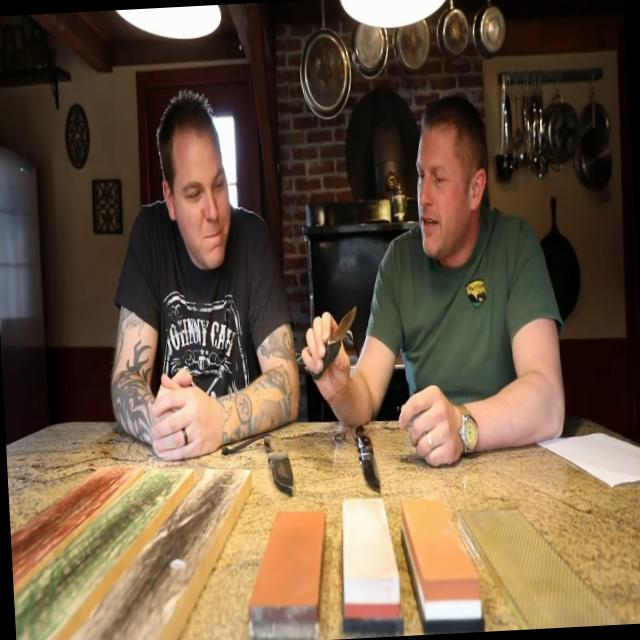knife: (307, 296, 367, 378)
